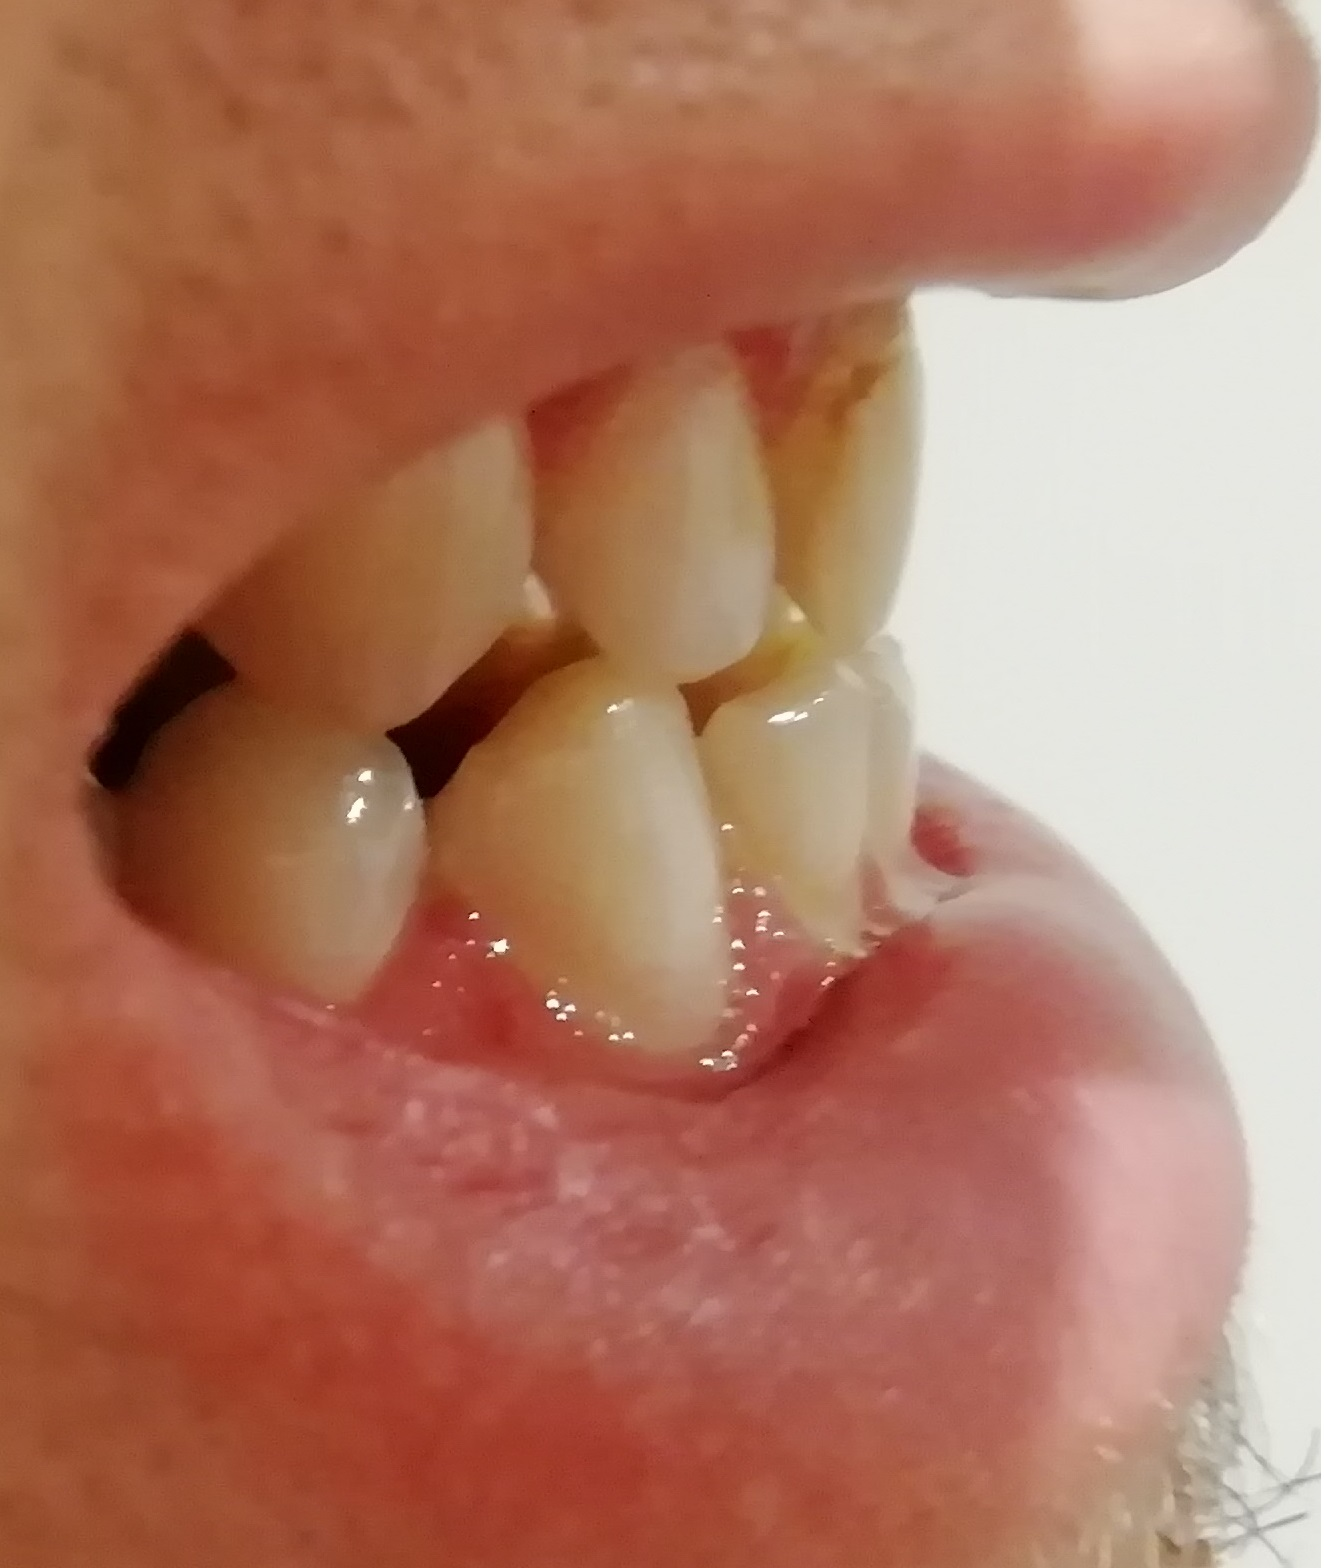boca: (144, 313, 950, 1005)
